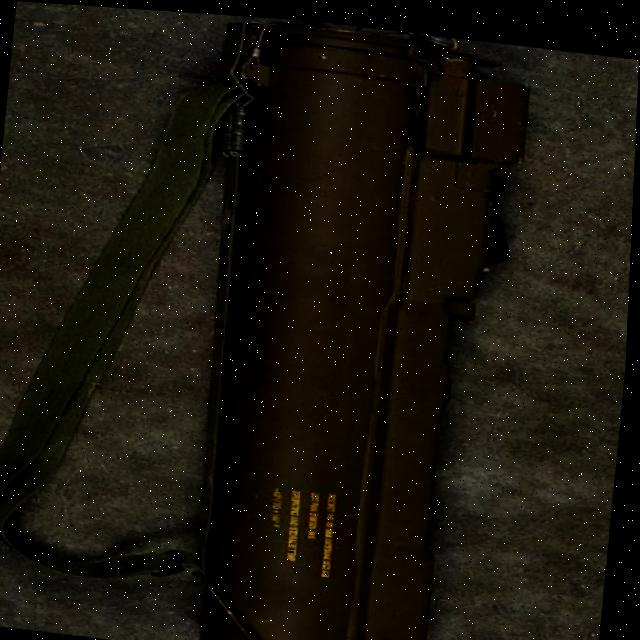rocket: (0, 0, 573, 640)
